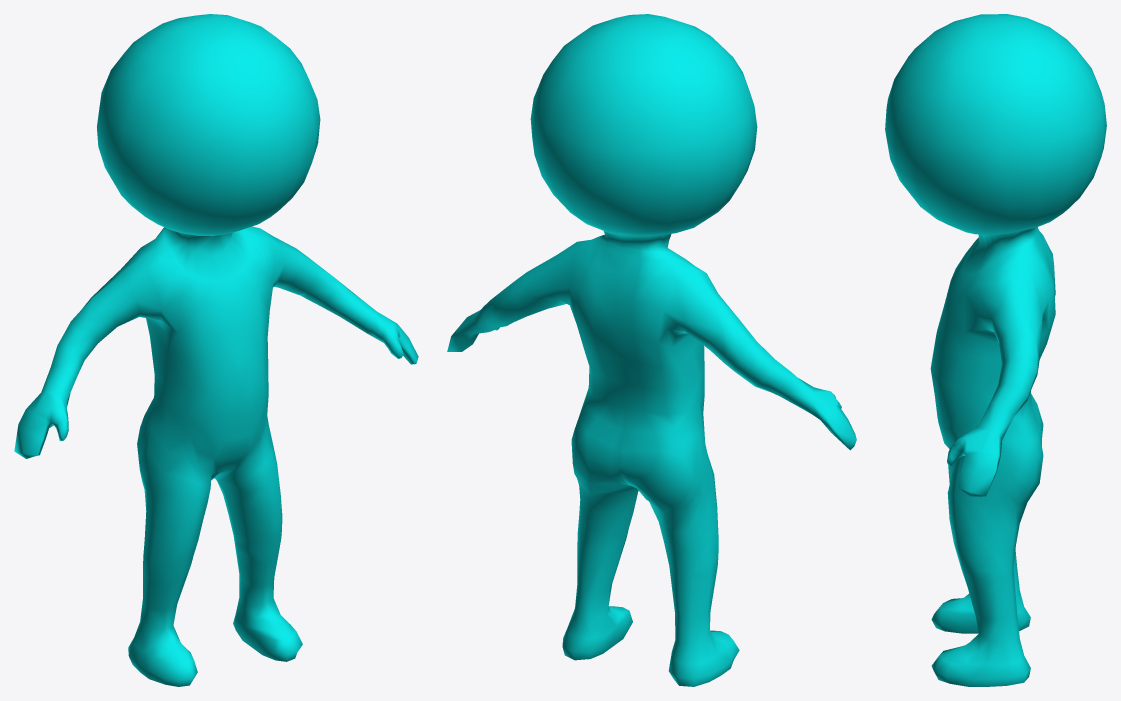
File: Chibi.fbx
3 views of the same model, side by side, from view 1: azimuth 30°, elevation 25°; view 2: azimuth 150°, elevation 25°; view 3: azimuth 270°, elevation 25° (orthographic).
Parts seen in each view (by area): view 1: Chibi; view 2: Chibi; view 3: Chibi.
Boxes of the visible parts, box(x1,y1,x2,y2) form: Chibi: box(14, 14, 418, 686); Chibi: box(447, 14, 856, 686); Chibi: box(885, 14, 1106, 686).
Size of the model in its own units: 123 by 185 by 59.32.
